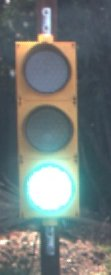Green: (13, 27, 85, 232)
